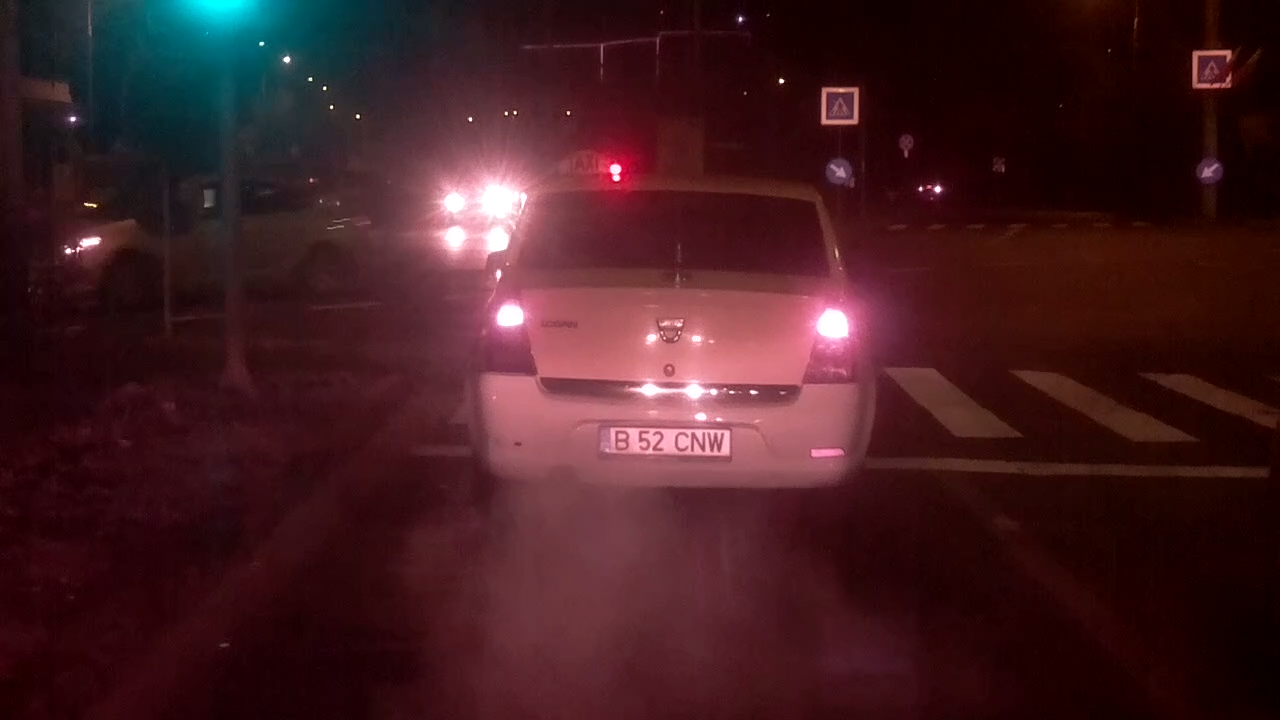license-plate: (592, 420, 735, 463)
